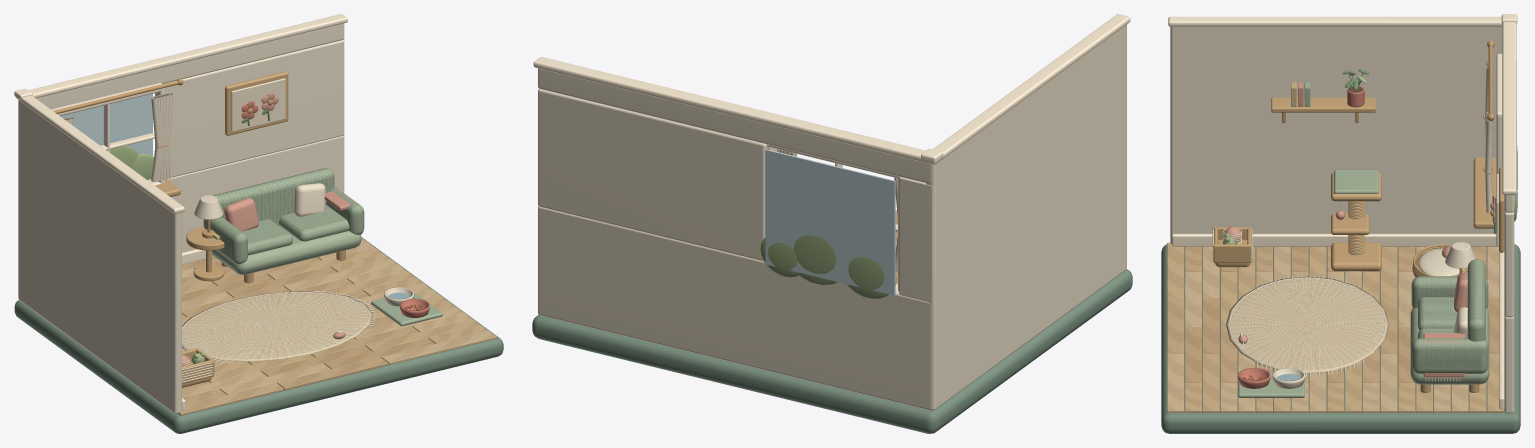
The model's file is room.glb.
3 views of the same model, side by side, from view 1: azimuth 30°, elevation 25°; view 2: azimuth 150°, elevation 25°; view 3: azimuth 270°, elevation 25° (orthographic). The views are drawn at different scales.
Parts seen in each view (by area): view 1: shell--奶油墙面, rug--地毯织纹, shell--地台侧面, sofa--沙发织纹, shell--木地板0, shell--木地板2, shell--米白木框, shell--木地板1, shell--木地板3, window--窗外蓝, sofa--沙发鼠尾草绿, picture--奶油织物 (+13 smaller); view 2: shell--奶油墙面, shell--地台侧面, window--窗外蓝, shell--米白木框, window--嫩叶, window--米白木框; view 3: shell--奶油墙面, rug--地毯织纹, shell--地台侧面, shell--米白木框, shell--木地板2, shell--木地板0, sofa--沙发织纹, shell--木地板1, shell--木地板3, tree--浅橡木, shelf--浅橡木, sofa--沙发鼠尾草绿 (+16 smaller).
Part boxes in pixels (x1,y1,x2,y2): shell--奶油墙面: (18,23,344,413); rug--地毯织纹: (182,291,372,361); shell--地台侧面: (14,237,503,433); sofa--沙发织纹: (203,168,364,264); shell--木地板0: (178,247,488,415); shell--木地板2: (182,238,496,397); shell--米白木框: (14,14,347,410); shell--木地板1: (182,257,418,404); shell--木地板3: (182,256,435,389); window--窗外蓝: (60,93,152,155); sofa--沙发鼠尾草绿: (212,225,361,274); picture--奶油织物: (231,78,285,131); shell--奶油墙面: (538,24,1126,410); shell--地台侧面: (532,269,1132,433); window--窗外蓝: (765,149,895,295); shell--米白木框: (533,14,1130,164); window--嫩叶: (760,235,896,299); window--米白木框: (767,144,899,291); shell--奶油墙面: (1170,26,1514,413); rug--地毯织纹: (1226,276,1389,373); shell--地台侧面: (1161,244,1520,433); shell--米白木框: (1168,14,1517,409); shell--木地板2: (1167,246,1499,413); shell--木地板0: (1167,242,1503,412); sofa--沙发织纹: (1411,259,1488,373); shell--木地板1: (1167,246,1486,382); shell--木地板3: (1185,246,1499,382); tree--浅橡木: (1331,172,1381,271); shelf--浅橡木: (1271,97,1375,112); sofa--沙发鼠尾草绿: (1410,307,1489,384).
Size of the model in its own units: 6.7 by 4.42 by 5.8.
Materials: 24 (6 with a texture image).
